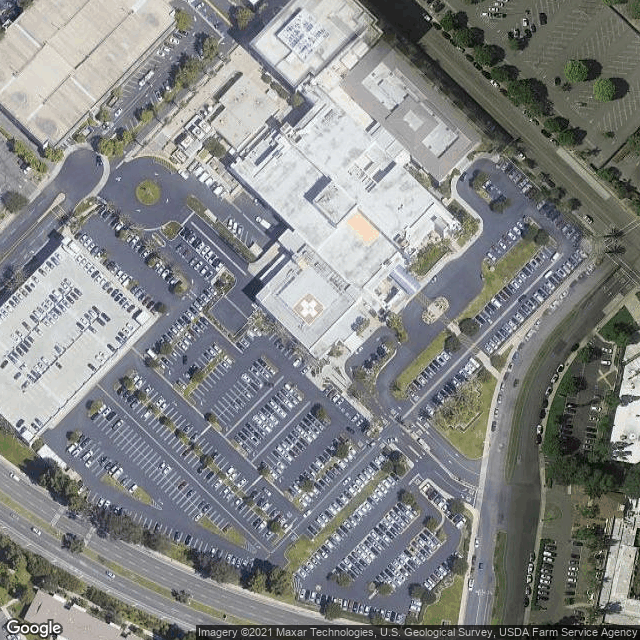Helipad: (289, 292, 328, 326)
